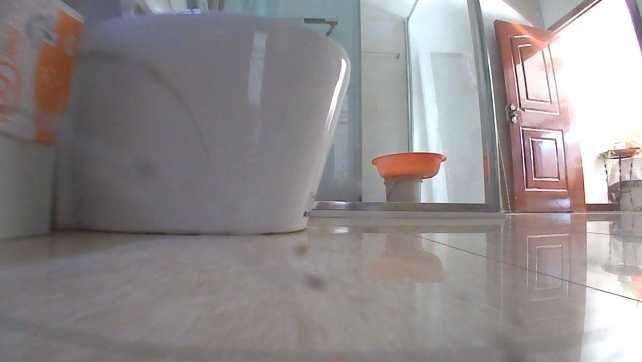door_anno: (491, 16, 586, 212)
toilet: (51, 0, 352, 239)
